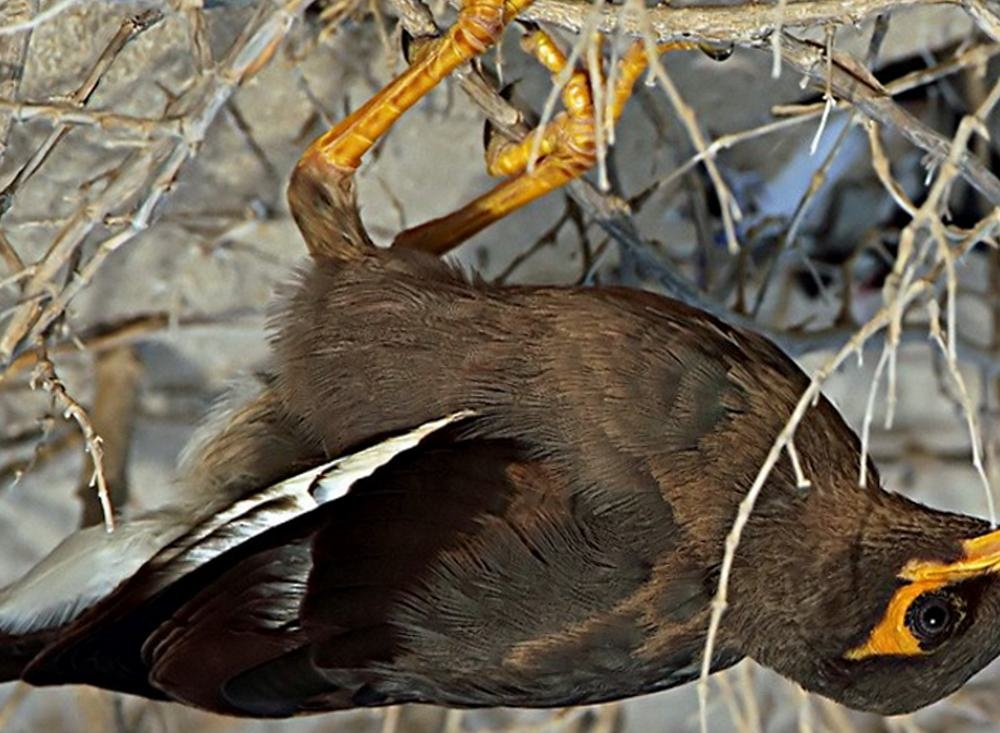myna: (276, 32, 1000, 708)
